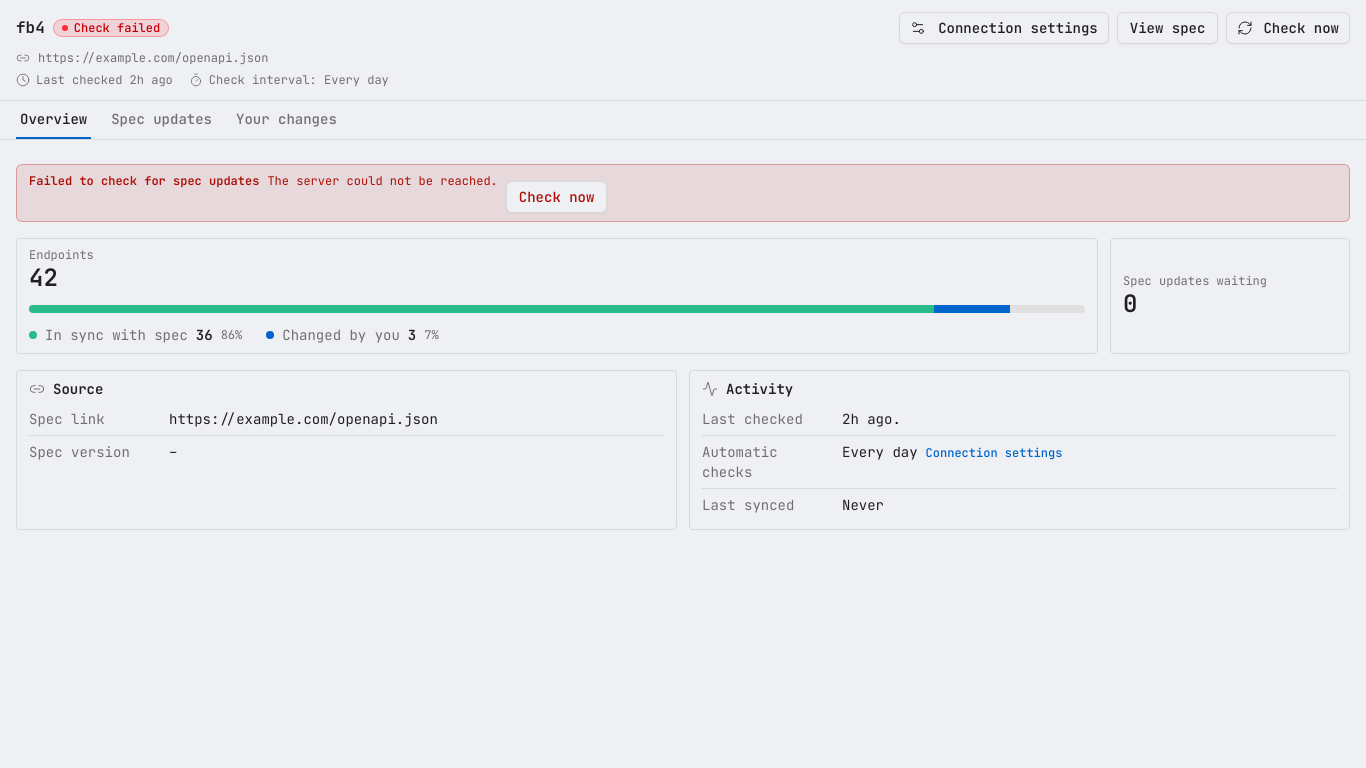
OpenApiSyncTab › failure banner › a_successful_check_clears_the_banner
The width and height of the screenshot is (1366, 768).
What coordinates should you click on to do the following:
click the button "Check now" next to "The server could not be reached."
I would click on:
 (557, 197)
Its box is [506,181,607,213].
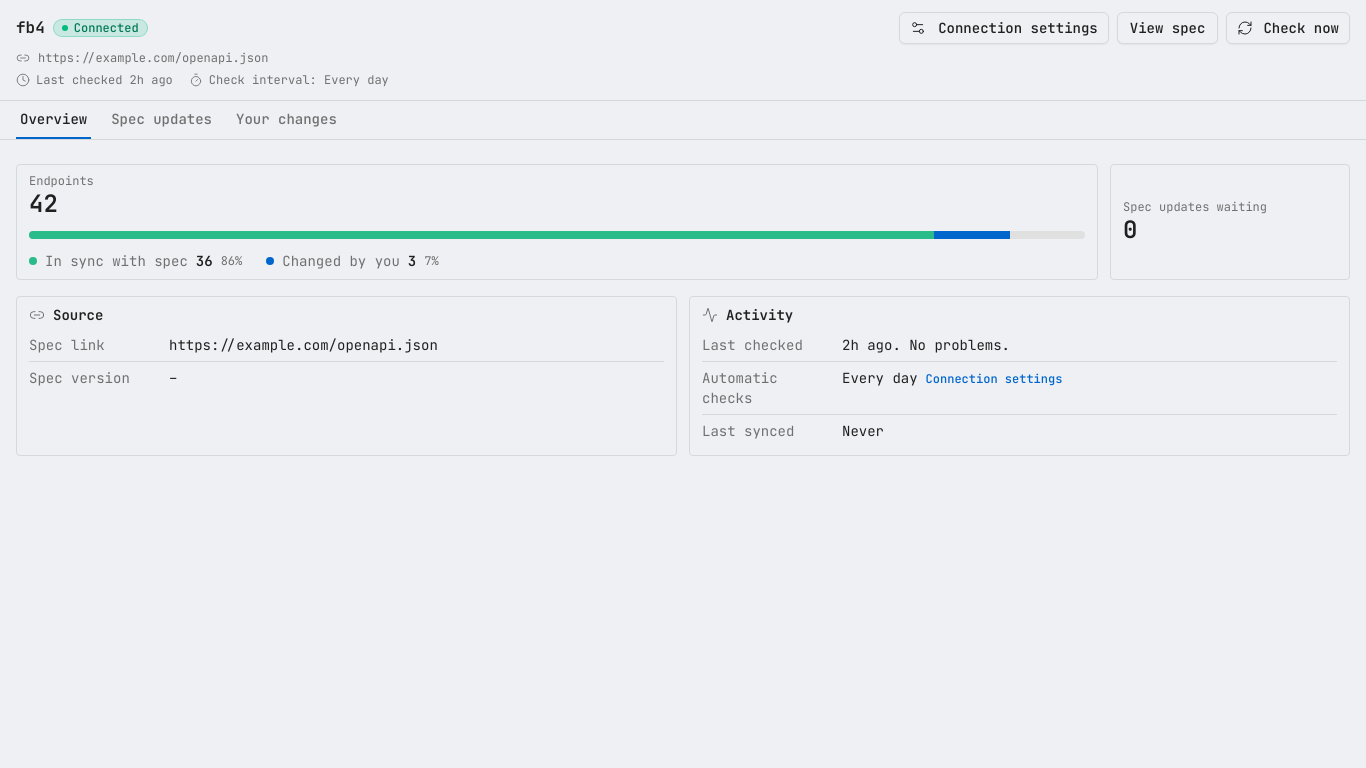
Check: the text "Failed to check for spec updates" is gone
